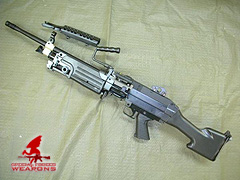rifle: (2, 11, 233, 165)
